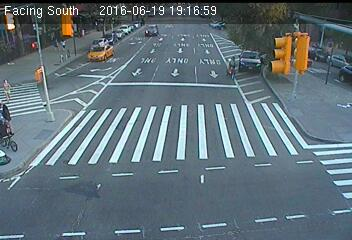neg: (301, 110, 325, 142), (95, 113, 117, 142), (213, 116, 235, 145), (277, 148, 296, 173), (170, 180, 189, 205), (44, 73, 62, 96), (225, 55, 242, 78), (138, 100, 154, 121), (238, 171, 254, 192), (163, 48, 178, 68), (201, 68, 216, 88), (84, 178, 99, 198), (53, 110, 68, 129), (272, 48, 286, 67), (31, 92, 44, 110), (286, 78, 297, 93)
